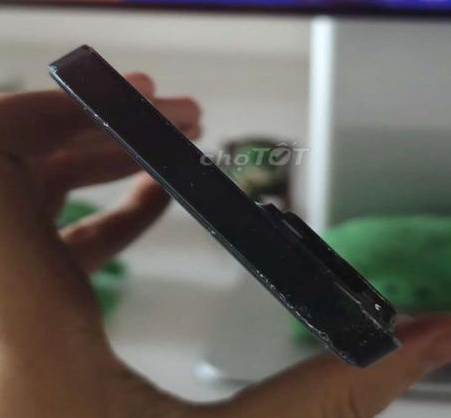scratch: (230, 263, 407, 376), (46, 51, 109, 128), (131, 87, 194, 139)
